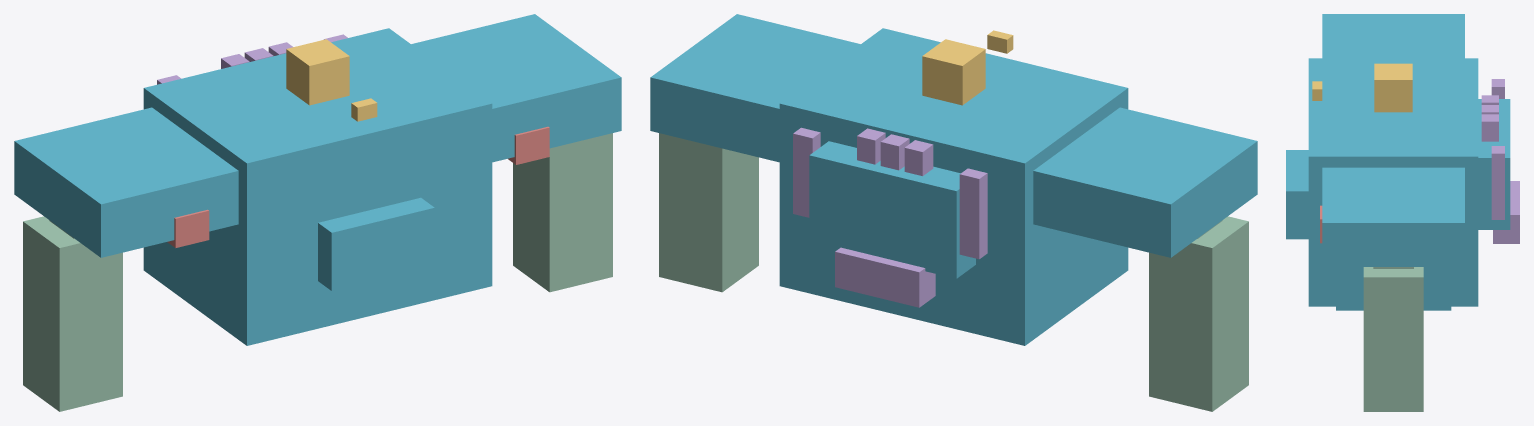
The model's file is mechfall_stego.glb.
The picture shows the model from 3 angles, left to right: view 1: azimuth 30°, elevation 25°; view 2: azimuth 150°, elevation 25°; view 3: azimuth 270°, elevation 25°; orthographic projection. The views are drawn at different scales.
Visible parts, largest first — view 1: TORSO HULL, SHOULDER L, SHOULDER R, FOREARM L, FOREARM R, REACTOR CORE, COCKPIT CANOPY, WEAPON MOUNT L, WEAPON MOUNT R, UPPER ARM R; view 2: TORSO HULL, SHOULDER L, SHOULDER R, FOREARM L, EW BACKPACK, FOREARM R, COCKPIT CANOPY, RADIATOR L, RADIATOR R, THRUSTER 1, UPPER ARM R, THRUSTER 3 (+5 smaller); view 3: TORSO HULL, SHOULDER R, FOREARM R, SHOULDER L, EW BACKPACK, REACTOR CORE, COCKPIT CANOPY, RADIATOR R, THRUSTER 4, JUMP JET 3, HIP ASSEMBLY, RADIATOR L.
Boxes of the visible parts, <box> form: TORSO HULL: <box>143,28,492,345</box>; SHOULDER L: <box>14,107,238,257</box>; SHOULDER R: <box>411,14,621,162</box>; FOREARM L: <box>23,216,122,411</box>; FOREARM R: <box>513,133,612,292</box>; REACTOR CORE: <box>318,197,434,290</box>; COCKPIT CANOPY: <box>286,39,349,105</box>; WEAPON MOUNT L: <box>167,209,209,247</box>; WEAPON MOUNT R: <box>508,126,549,164</box>; UPPER ARM R: <box>521,158,543,202</box>; TORSO HULL: <box>779,28,1128,345</box>; SHOULDER L: <box>1033,107,1257,257</box>; SHOULDER R: <box>650,14,860,162</box>; FOREARM L: <box>1149,216,1248,411</box>; EW BACKPACK: <box>809,141,975,278</box>; FOREARM R: <box>659,133,758,292</box>; COCKPIT CANOPY: <box>922,39,985,105</box>; RADIATOR L: <box>959,168,987,259</box>; RADIATOR R: <box>793,127,820,217</box>; THRUSTER 1: <box>894,263,935,307</box>; UPPER ARM R: <box>728,150,752,202</box>; THRUSTER 3: <box>854,252,880,296</box>; TORSO HULL: <box>1308,58,1478,306</box>; SHOULDER R: <box>1322,167,1464,266</box>; FOREARM R: <box>1363,267,1423,411</box>; SHOULDER L: <box>1322,14,1464,58</box>; EW BACKPACK: <box>1478,99,1510,229</box>; REACTOR CORE: <box>1286,150,1308,239</box>; COCKPIT CANOPY: <box>1374,63,1412,112</box>; RADIATOR R: <box>1491,146,1504,219</box>; THRUSTER 4: <box>1493,207,1519,243</box>; JUMP JET 3: <box>1481,114,1498,141</box>; HIP ASSEMBLY: <box>1336,306,1451,310</box>; RADIATOR L: <box>1491,79,1504,98</box>.
Size of the model in its own units: 7.9 by 3.8 by 3.51.
